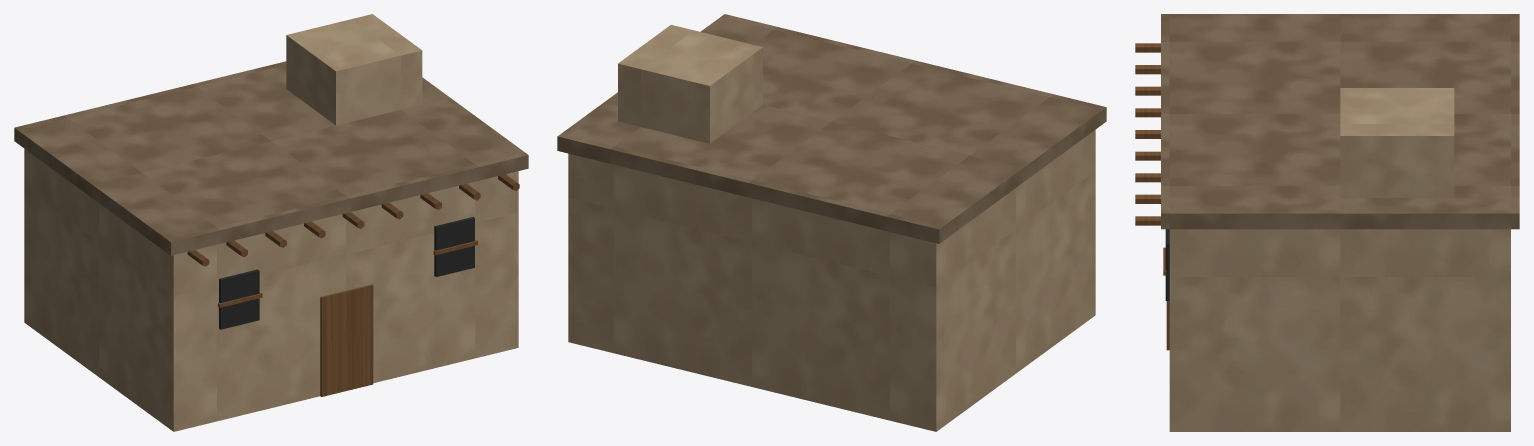
File: derbent_house.glb
The picture shows the model from 3 angles, left to right: view 1: azimuth 30°, elevation 25°; view 2: azimuth 150°, elevation 25°; view 3: azimuth 270°, elevation 25°; orthographic projection. The views are drawn at different scales.
Parts seen in each view (by area): view 1: Derbent_House; view 2: Derbent_House; view 3: Derbent_House.
Boxes of the visible parts, <box> form: Derbent_House: <box>14,14,528,431</box>; Derbent_House: <box>557,14,1106,431</box>; Derbent_House: <box>1135,14,1519,431</box>.
Bounding box in the file's own units: 8.3 × 5.5 × 6.75.
Materials: 4 (3 with a texture image).
